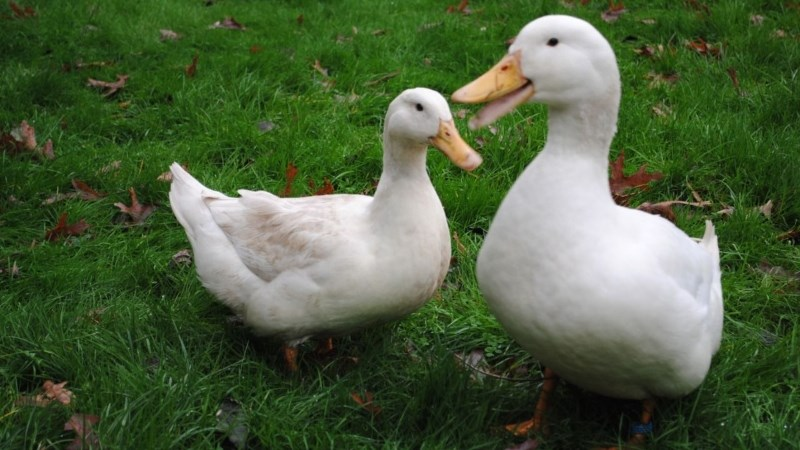Vịt/Duck: (456, 1, 738, 410), (260, 58, 497, 351)
